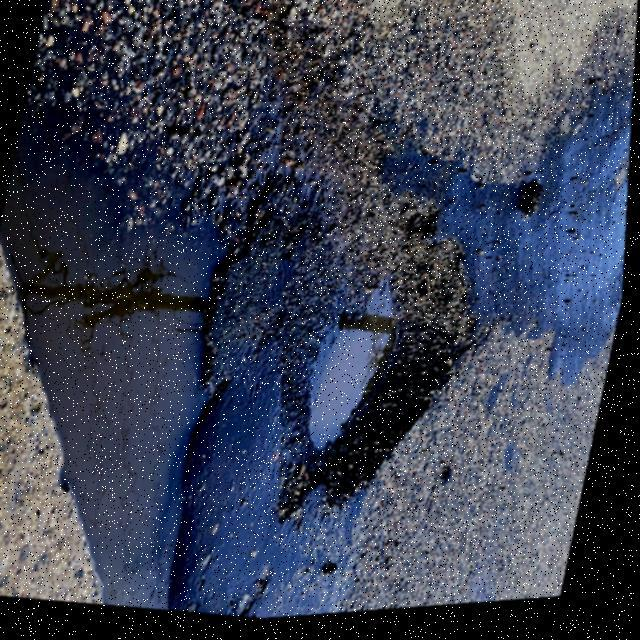pothole: (270, 266, 430, 516)
